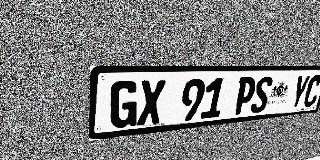1: (200, 78, 227, 119)
9: (179, 78, 206, 121)
C: (301, 75, 320, 108)
G: (109, 80, 139, 129)
P: (232, 77, 257, 115)
S: (249, 76, 274, 114)
X: (137, 79, 166, 126)
Y: (288, 75, 311, 109)
